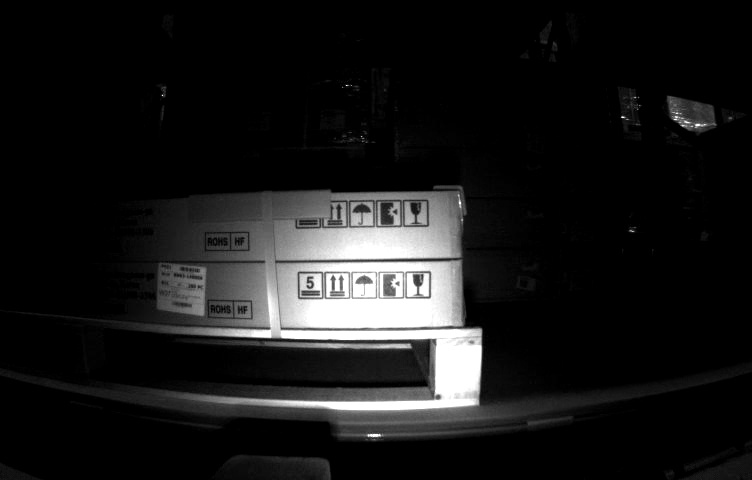True Barcode: (158, 261, 207, 320)
